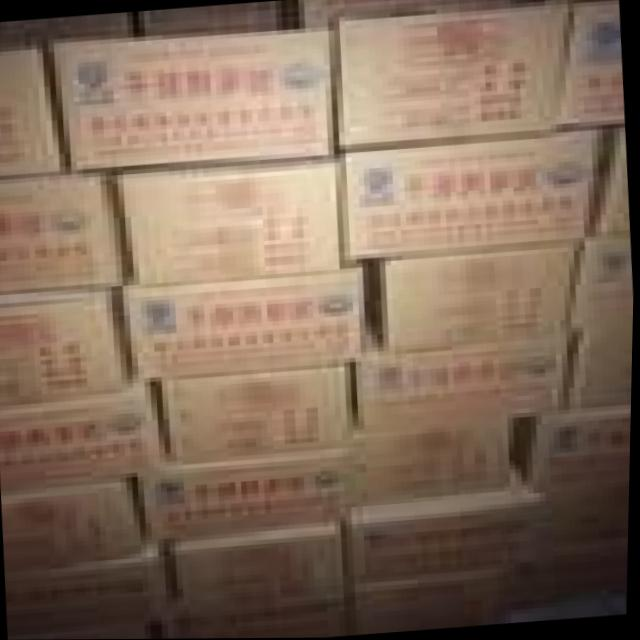box: (133, 418, 520, 540), (48, 30, 340, 170), (340, 125, 608, 268), (333, 4, 567, 154), (124, 258, 391, 383), (112, 158, 352, 286), (380, 242, 585, 360), (345, 328, 573, 434), (348, 485, 557, 584), (157, 363, 361, 462), (166, 516, 352, 614), (0, 382, 167, 491), (0, 286, 140, 410), (13, 544, 181, 640), (0, 171, 129, 291), (3, 477, 149, 572), (351, 573, 557, 635), (511, 401, 633, 489), (0, 39, 72, 179), (551, 4, 625, 129), (164, 601, 358, 639), (566, 315, 634, 414), (535, 478, 632, 539), (573, 234, 635, 328), (585, 128, 631, 242), (555, 537, 631, 599), (16, 625, 159, 640)
